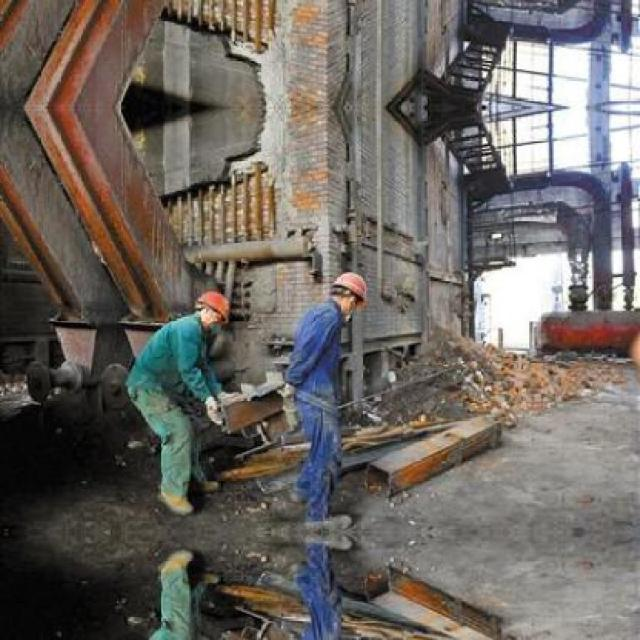helmet: (325, 270, 370, 316), (190, 287, 232, 331)
